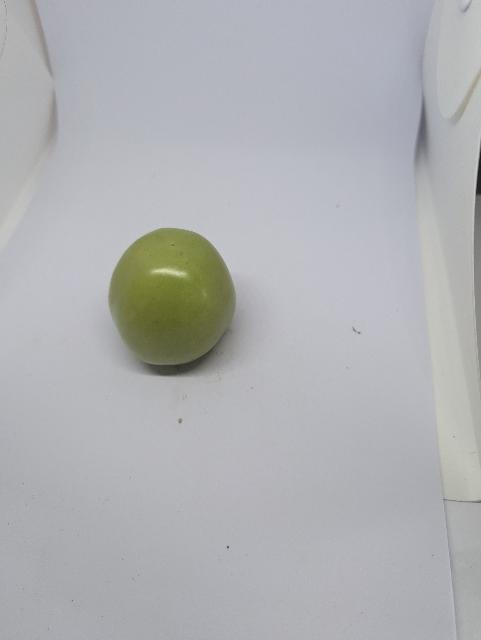green: (100, 217, 245, 382)
